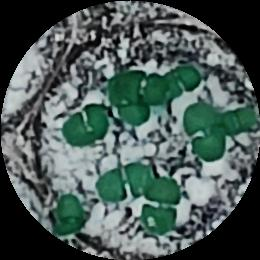Basil: (104, 65, 143, 125), (90, 162, 151, 198), (184, 105, 225, 157), (64, 106, 110, 150), (148, 64, 196, 105), (144, 178, 177, 235), (50, 195, 86, 237), (220, 104, 255, 137)
